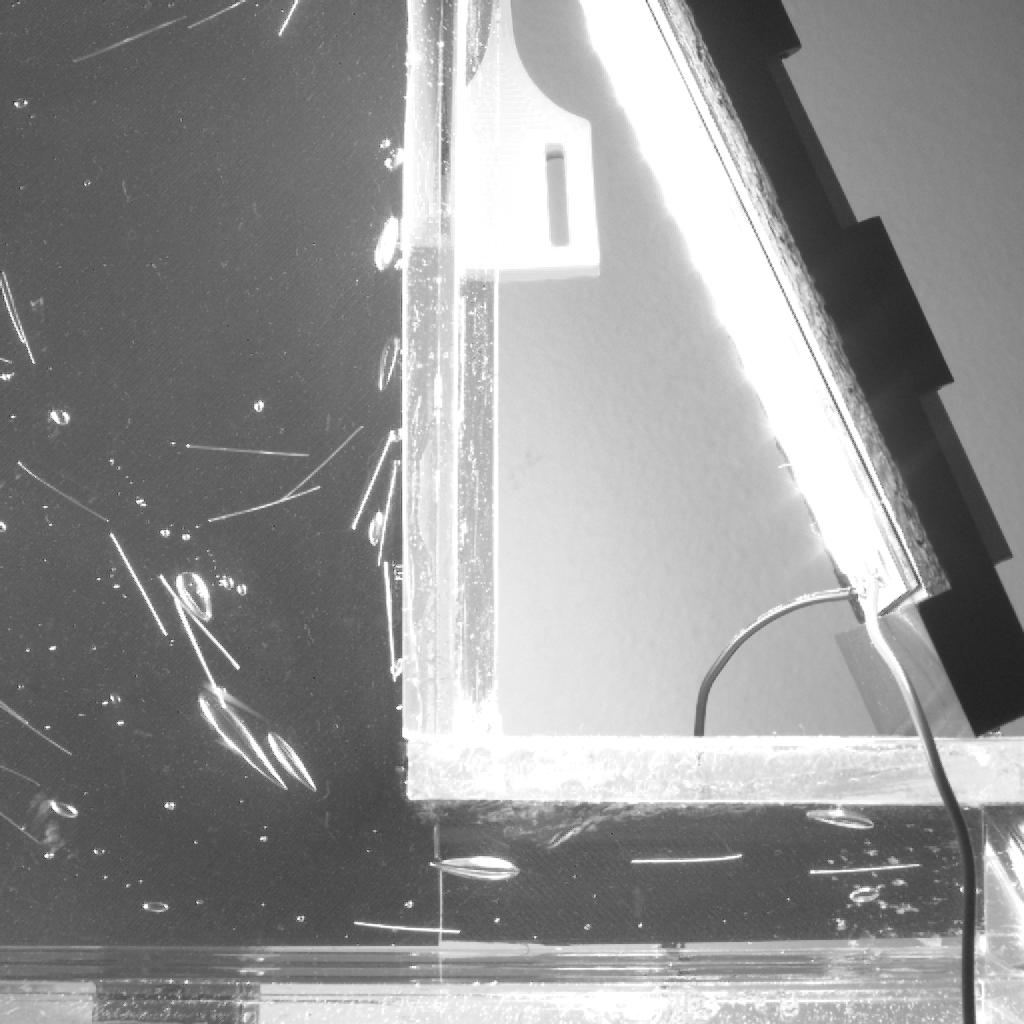Fiber: (157, 574, 242, 672), (169, 592, 230, 709), (279, 425, 366, 504), (105, 532, 169, 638), (13, 458, 112, 525), (71, 15, 191, 64), (202, 484, 324, 527), (348, 427, 397, 529), (2, 707, 75, 757), (3, 266, 38, 367), (372, 460, 400, 565), (182, 442, 311, 461), (382, 558, 398, 685), (182, 2, 248, 32), (808, 860, 923, 877), (0, 281, 27, 348), (350, 920, 461, 935), (628, 852, 744, 865), (1, 811, 42, 846), (2, 762, 40, 794), (0, 698, 32, 728), (276, 1, 300, 38)
